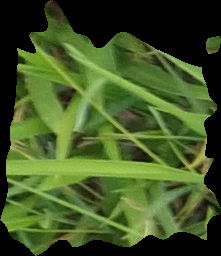grass: (1, 1, 219, 254)
